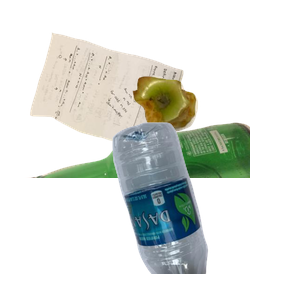glass: (23, 120, 263, 300)
paper: (27, 30, 203, 178)
plastic: (110, 120, 300, 300)
trash: (130, 74, 300, 199)
